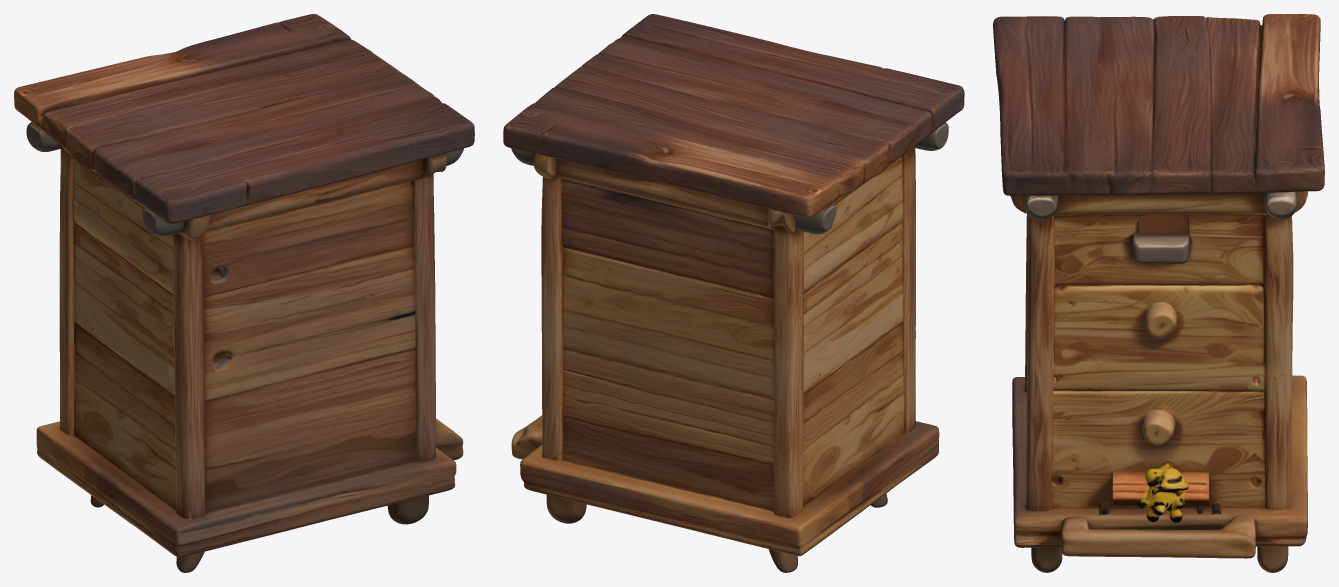
File: prop-beehive.glb
3 renders of one model, left to right at view 1: azimuth 30°, elevation 25°; view 2: azimuth 150°, elevation 25°; view 3: azimuth 270°, elevation 25°, orthographic. The views are drawn at different scales.
Parts seen in each view (by area): view 1: tripo_node_31b5611e-625c-4bcd-abae-7f8736919777; view 2: tripo_node_31b5611e-625c-4bcd-abae-7f8736919777; view 3: tripo_node_31b5611e-625c-4bcd-abae-7f8736919777.
Part boxes in pixels (x1,y1,x2,y2): tripo_node_31b5611e-625c-4bcd-abae-7f8736919777: (14, 14, 474, 572); tripo_node_31b5611e-625c-4bcd-abae-7f8736919777: (503, 14, 964, 572); tripo_node_31b5611e-625c-4bcd-abae-7f8736919777: (993, 14, 1324, 572).
Size of the model in its own units: 0.8569 by 1 by 0.7053.
Materials: 1 (1 with a texture image).
